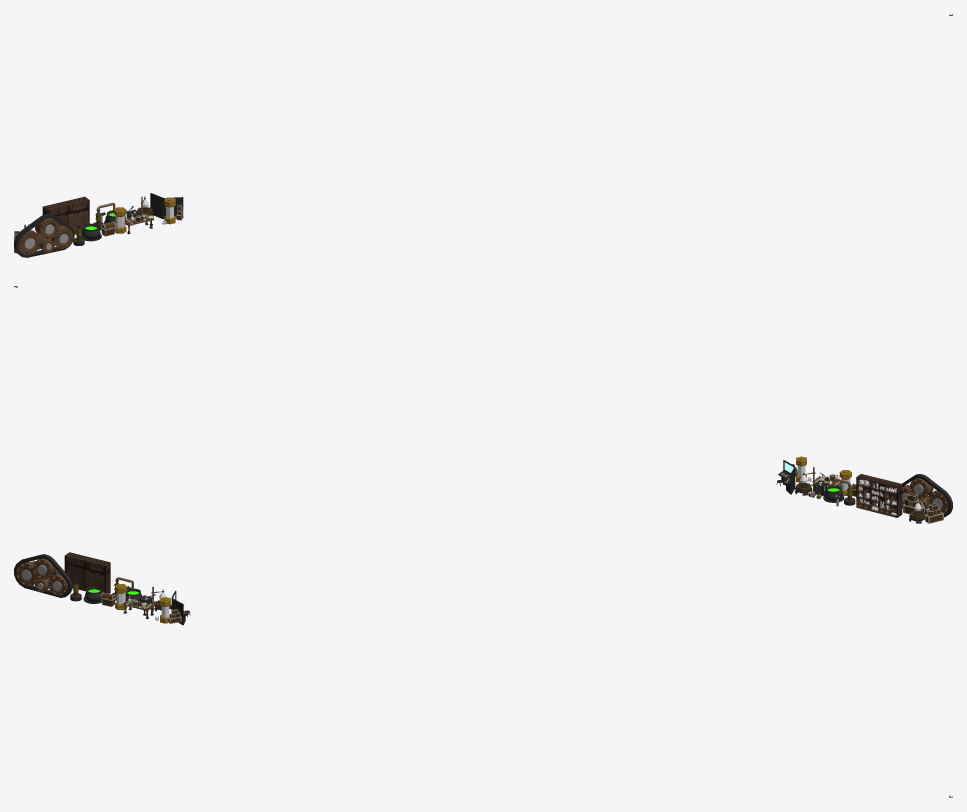
Rendered from LabBObsA.fbx.
The picture shows the model from 3 angles, top to bottom: view 1: azimuth 30°, elevation 25°; view 2: azimuth 150°, elevation 25°; view 3: azimuth 330°, elevation 25°; orthographic projection.
Parts seen in each view (by area): view 1: Cylinder.1597, Cube.1478, Plane.027; view 2: Cube.1478, Cylinder.1597; view 3: Cube.1478, Cylinder.1597, Plane.027.
Boxes of the visible parts, x1,y1,x2,y2 form: Cylinder.1597: [18, 218, 73, 255]; Cube.1478: [42, 196, 89, 234]; Plane.027: [14, 213, 74, 257]; Cube.1478: [856, 474, 902, 517]; Cylinder.1597: [902, 478, 948, 513]; Cube.1478: [64, 552, 110, 593]; Cylinder.1597: [16, 558, 67, 595]; Plane.027: [14, 554, 72, 597].
Size of the model in its own units: 86.09 by 3.33 by 3.27.
17 materials, 2 textured.
